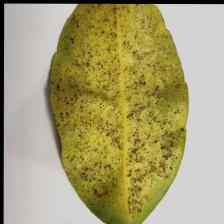canker: (70, 44, 174, 162)
